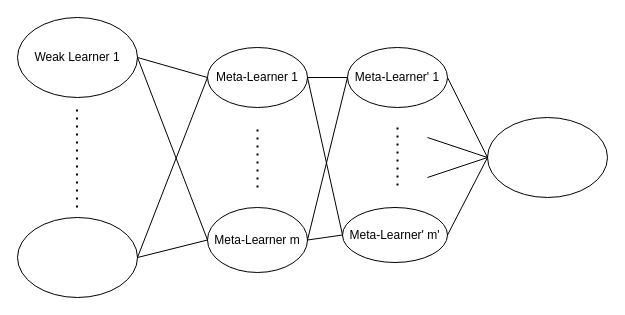
Image size: 625x315. Some labels were removed from this diagram. The box of each missing label's shape, as (x1, y1, x2, y2) in pixels:
RESULT: (486, 116, 608, 198)
Weak Learner n: (16, 216, 138, 298)
